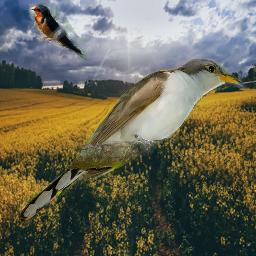Cuckoo: (15, 56, 248, 224)
Swallow: (29, 3, 87, 60)
